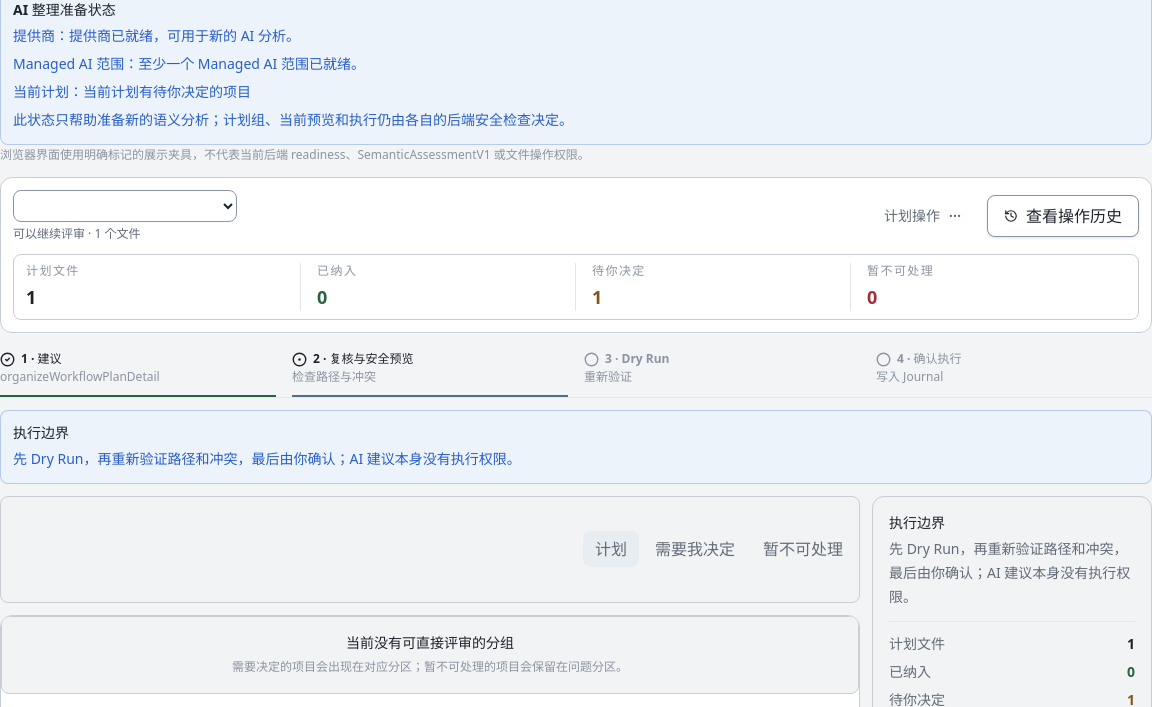
Organize independent review behavior › keeps group acceptance out of requires-decision when the backend action intersection is unavailable and confirms a single ordinary item mutation
Click the button "需要我决定".
click(695, 549)  # box [643,531,747,567]
(page scrolled)
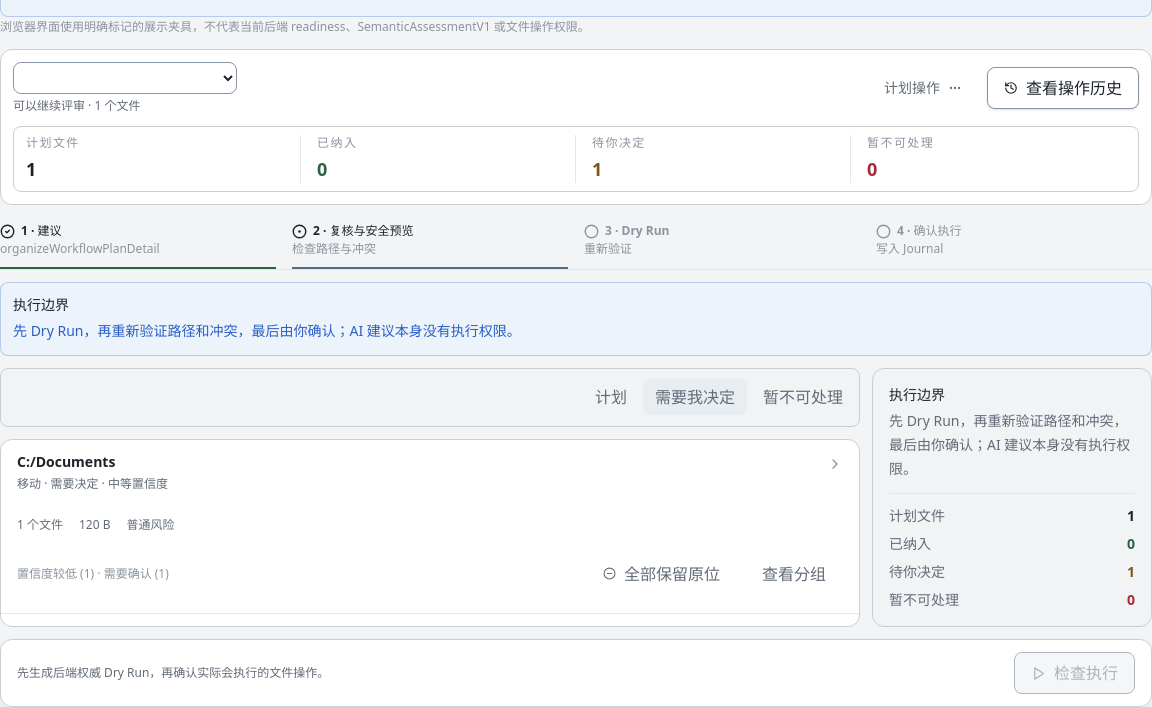
Result: the element with id "test-root" shows "置信度较低 (1)" at [17,565,169,582]
Result: the element with id "test-root" shows "需要确认 (1)" at [17,565,169,582]
Click the option.
click(66, 461)  # box [1,440,859,614]
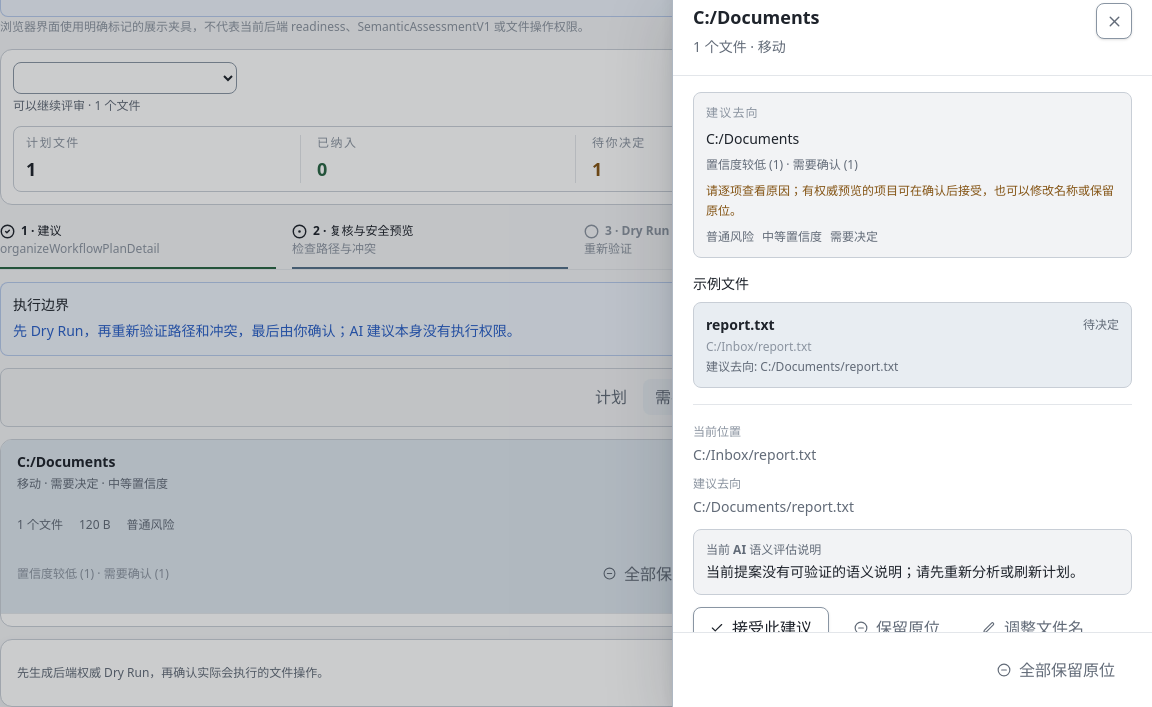
Click the button "接受此建议".
click(761, 628)  # box [693,607,829,649]
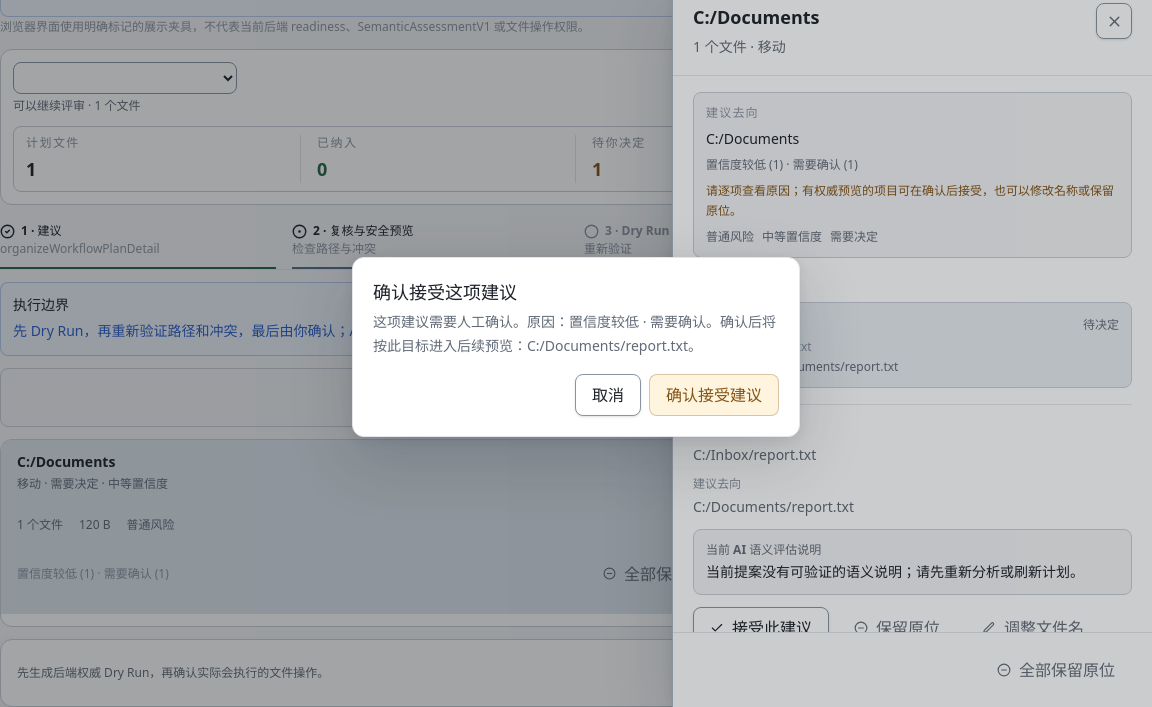
Result: the dialog shows "置信度较低" at [373,312,776,355]
Result: the dialog shows "C:/Documents/report.txt" at [373,312,776,355]
Result: the button "确认接受建议" is shown
Click the button "确认接受建议".
click(714, 395)  # box [649,374,779,416]
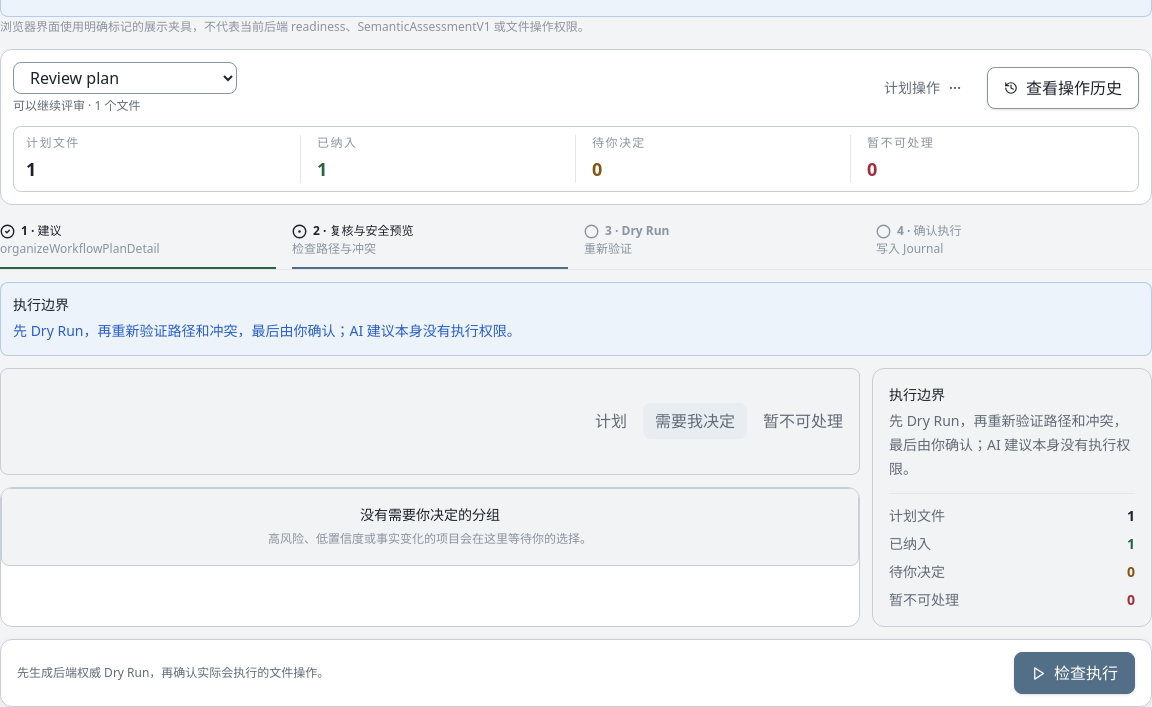
Result: the element with id "test-root" shows "没有需要你决定的分组" at [360,504,500,524]
Result: the button "检查执行" is enabled at [1014,652,1135,694]
